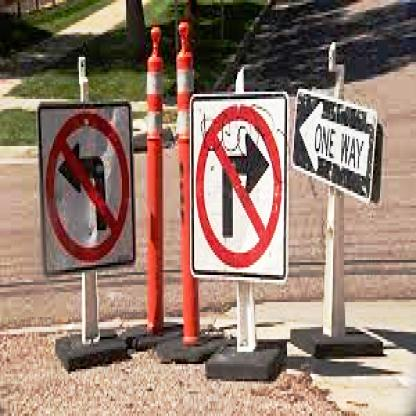No right turn: (193, 98, 286, 281)
